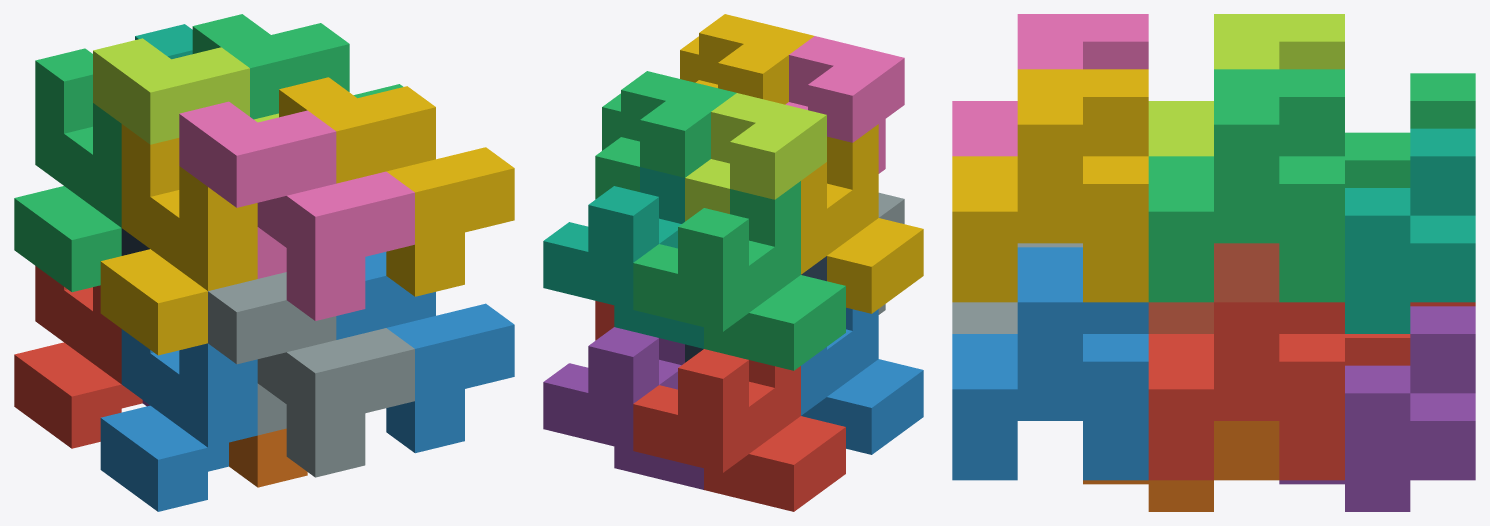
Rendered from tiling.obj.
3 renders of one model, left to right at view 1: azimuth 30°, elevation 25°; view 2: azimuth 150°, elevation 25°; view 3: azimuth 270°, elevation 25°, orthographic. The views are drawn at different scales.
Parts seen in each view (by area): view 1: copy_2_domain_4, copy_2_domain_2, copy_1_domain_4, copy_2_domain_8, copy_1_domain_2, copy_1_domain_3, copy_2_domain_6, copy_1_domain_1, copy_2_domain_3, copy_2_domain_7, copy_1_domain_6, copy_1_domain_7; view 2: copy_1_domain_3, copy_1_domain_1, copy_1_domain_4, copy_1_domain_7, copy_1_domain_5, copy_2_domain_3, copy_1_domain_2, copy_2_domain_7, copy_2_domain_4, copy_2_domain_8, copy_2_domain_2, copy_2_domain_5 (+1 smaller); view 3: copy_2_domain_8, copy_2_domain_7, copy_2_domain_6, copy_2_domain_5, copy_1_domain_5, copy_1_domain_7, copy_2_domain_4, copy_2_domain_3, copy_1_domain_3, copy_1_domain_6, copy_1_domain_8, copy_1_domain_1 (+1 smaller).
Boxes of the visible parts, x1,y1,x2,y2 form: copy_2_domain_4: (179,101,414,320); copy_2_domain_2: (208,272,414,477); copy_1_domain_4: (100,124,257,355); copy_2_domain_8: (279,77,514,296); copy_1_domain_2: (100,329,257,511); copy_1_domain_3: (14,48,121,292); copy_2_domain_6: (336,252,514,453); copy_1_domain_1: (14,266,142,448); copy_2_domain_3: (93,38,278,144); copy_2_domain_7: (192,14,403,119); copy_1_domain_6: (229,428,307,487); copy_1_domain_7: (135,24,192,59); copy_1_domain_3: (633,181,845,370); copy_1_domain_1: (633,349,845,511); copy_1_domain_4: (801,124,923,313); copy_1_domain_7: (543,167,703,348); copy_1_domain_5: (543,327,703,489); copy_2_domain_3: (685,93,826,221); copy_1_domain_2: (801,307,923,454); copy_2_domain_7: (595,71,736,199); copy_2_domain_4: (785,36,904,173); copy_2_domain_8: (680,14,813,104); copy_2_domain_2: (878,192,904,314); copy_2_domain_5: (595,301,614,340); copy_2_domain_8: (952,69,1148,302); copy_2_domain_7: (1148,69,1344,302); copy_2_domain_6: (952,247,1148,480); copy_2_domain_5: (1148,302,1344,480); copy_1_domain_5: (1279,306,1475,511); copy_1_domain_7: (1345,128,1475,333); copy_2_domain_4: (952,14,1148,156); copy_2_domain_3: (1148,14,1344,156); copy_1_domain_3: (1345,73,1475,187); copy_1_domain_6: (1083,421,1279,511); copy_1_domain_8: (1148,243,1279,333); copy_1_domain_1: (1345,302,1475,365).
Size of the model in its own units: 6 by 7 by 8.
